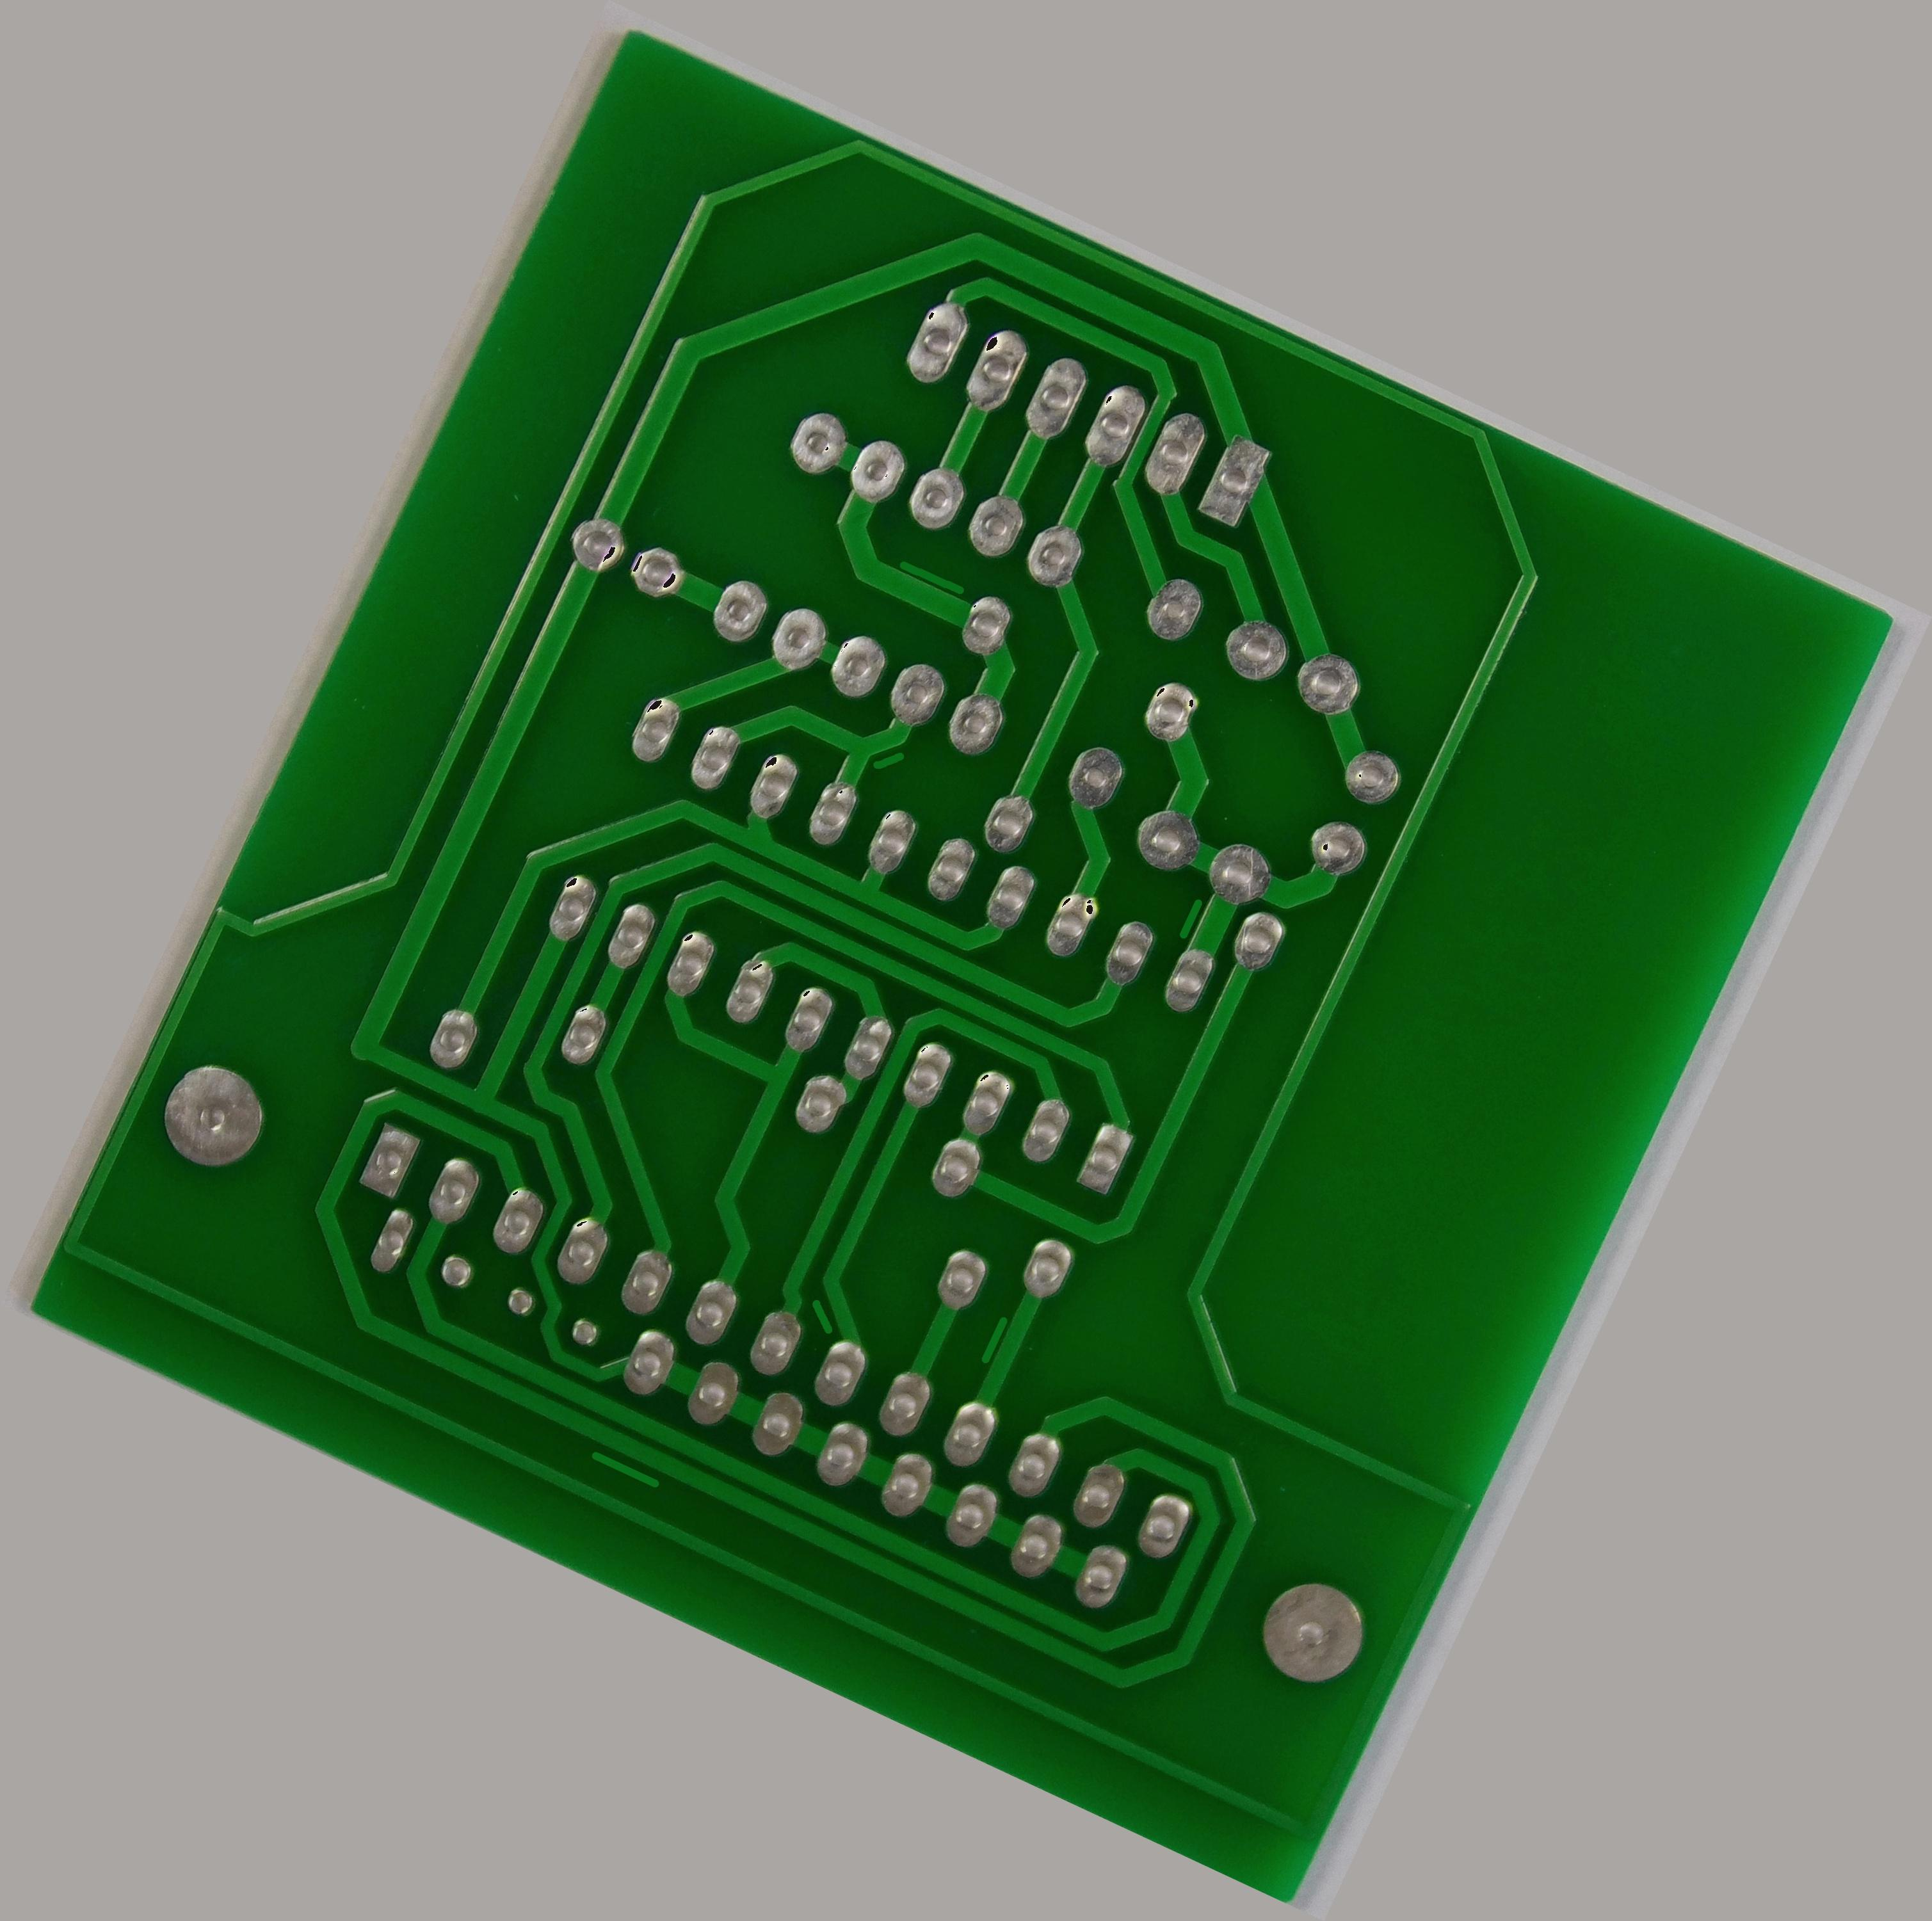spurious_copper: (574, 1435, 674, 1509), (887, 545, 973, 609), (962, 1304, 1024, 1377), (785, 1281, 853, 1346), (1165, 883, 1218, 950), (862, 735, 915, 788)
